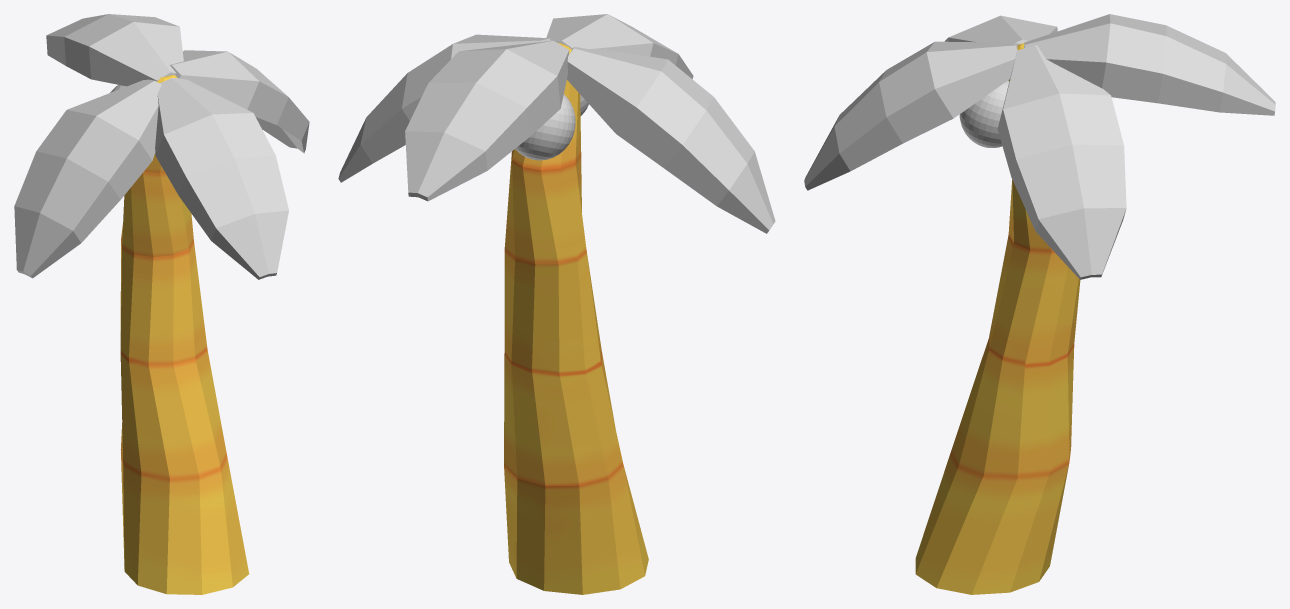
Rendered from PalmTree.fbx.
3 renders of one model, left to right at view 1: azimuth 30°, elevation 25°; view 2: azimuth 150°, elevation 25°; view 3: azimuth 270°, elevation 25°, orthographic. The views are drawn at different scales.
Parts seen in each view (by area): view 1: PalmTreeBase, PalmLeaf, PalmLeaf2, PalmLeaf4, PalmLeaf3; view 2: PalmTreeBase, PalmLeaf2, PalmLeaf4, PalmLeaf3, PalmLeaf, Coconut.001; view 3: PalmTreeBase, PalmLeaf3, PalmLeaf4, PalmLeaf, PalmLeaf2, Coconut.
Part boxes in pixels (<box>): PalmTreeBase: <box>120,75,249,594</box>; PalmLeaf: <box>155,78,288,279</box>; PalmLeaf2: <box>14,79,161,278</box>; PalmLeaf4: <box>46,14,183,86</box>; PalmLeaf3: <box>170,50,309,153</box>; PalmTreeBase: <box>504,43,648,594</box>; PalmLeaf2: <box>567,46,775,233</box>; PalmLeaf4: <box>405,40,569,201</box>; PalmLeaf3: <box>338,34,550,182</box>; PalmLeaf: <box>546,14,693,78</box>; Coconut.001: <box>515,94,575,160</box>; PalmTreeBase: <box>915,43,1080,594</box>; PalmLeaf3: <box>997,45,1126,279</box>; PalmLeaf4: <box>1024,14,1275,115</box>; PalmLeaf: <box>804,41,1018,190</box>; PalmLeaf2: <box>944,15,1057,44</box>; Coconut: <box>959,80,1009,147</box>.
Size of the model in its own units: 746 by 1072 by 839.
Materials: 1 (1 with a texture image).
